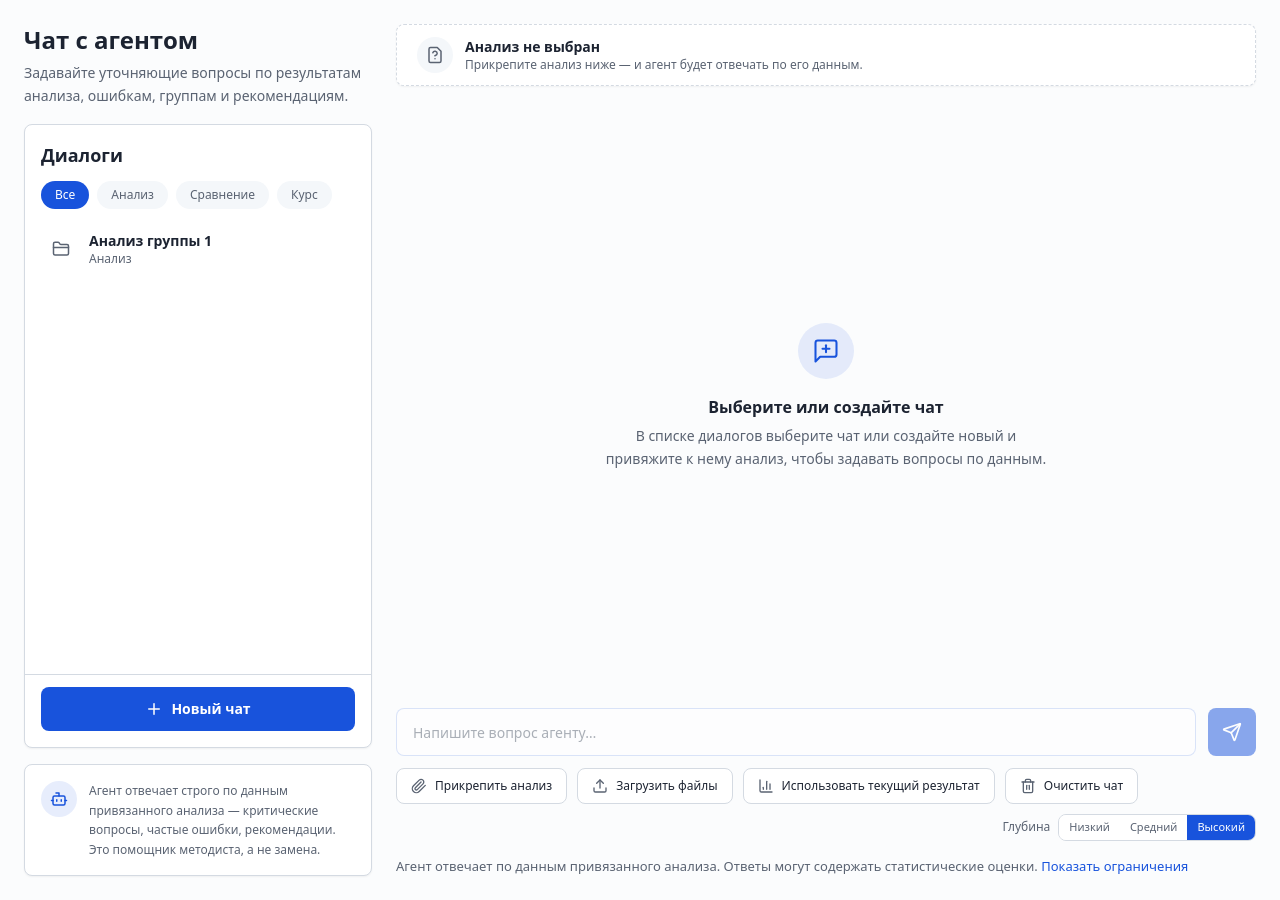
Test: ChatScreen › streams a turn: status → card → tokens → done, rendering card then prose
Click the text "Анализ группы 1" at (151, 240), box [89,230,212,250]
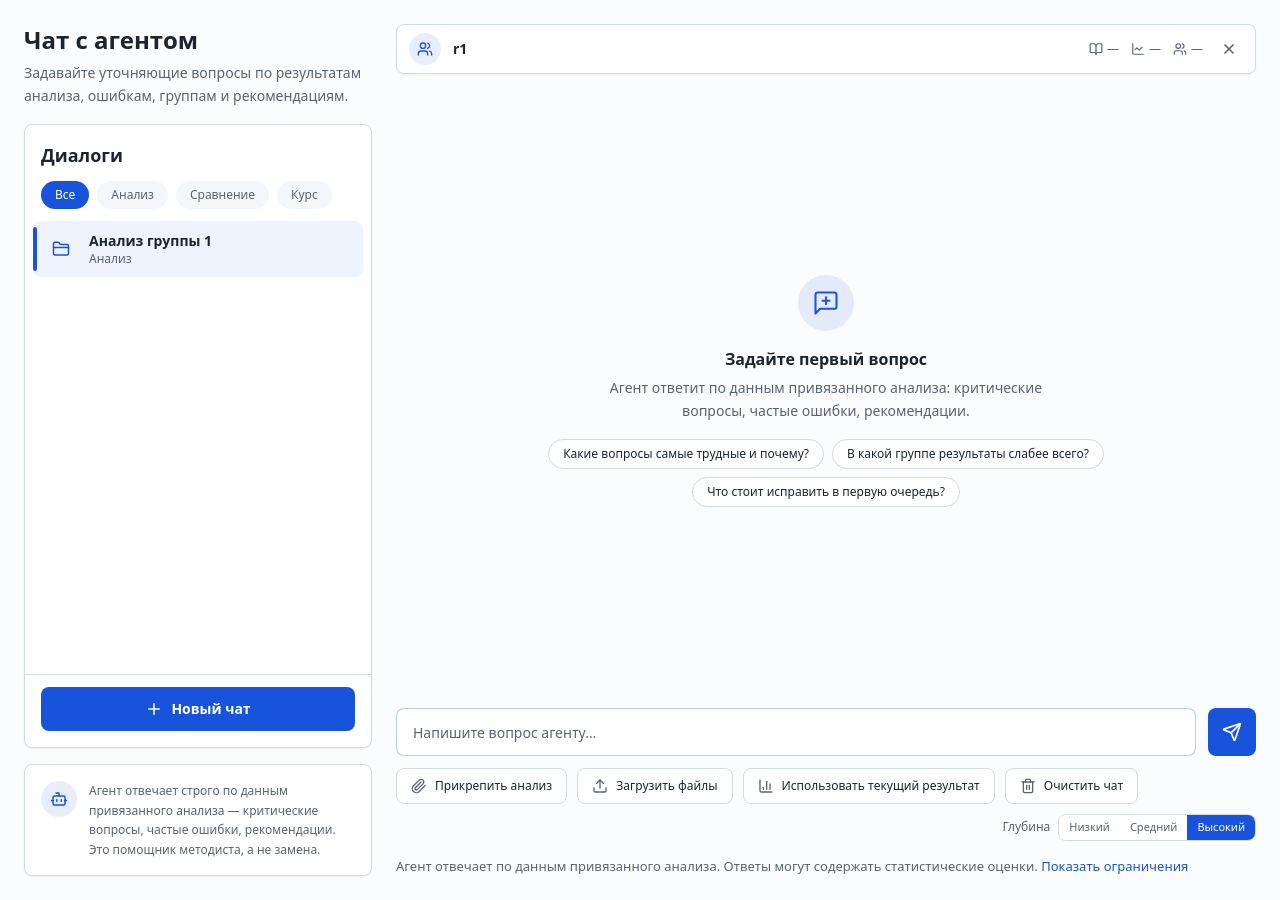
Type "Что самое сложное?" into the field with placeholder "Напишите вопрос агенту…" at (796, 732), box [396,708,1196,756]
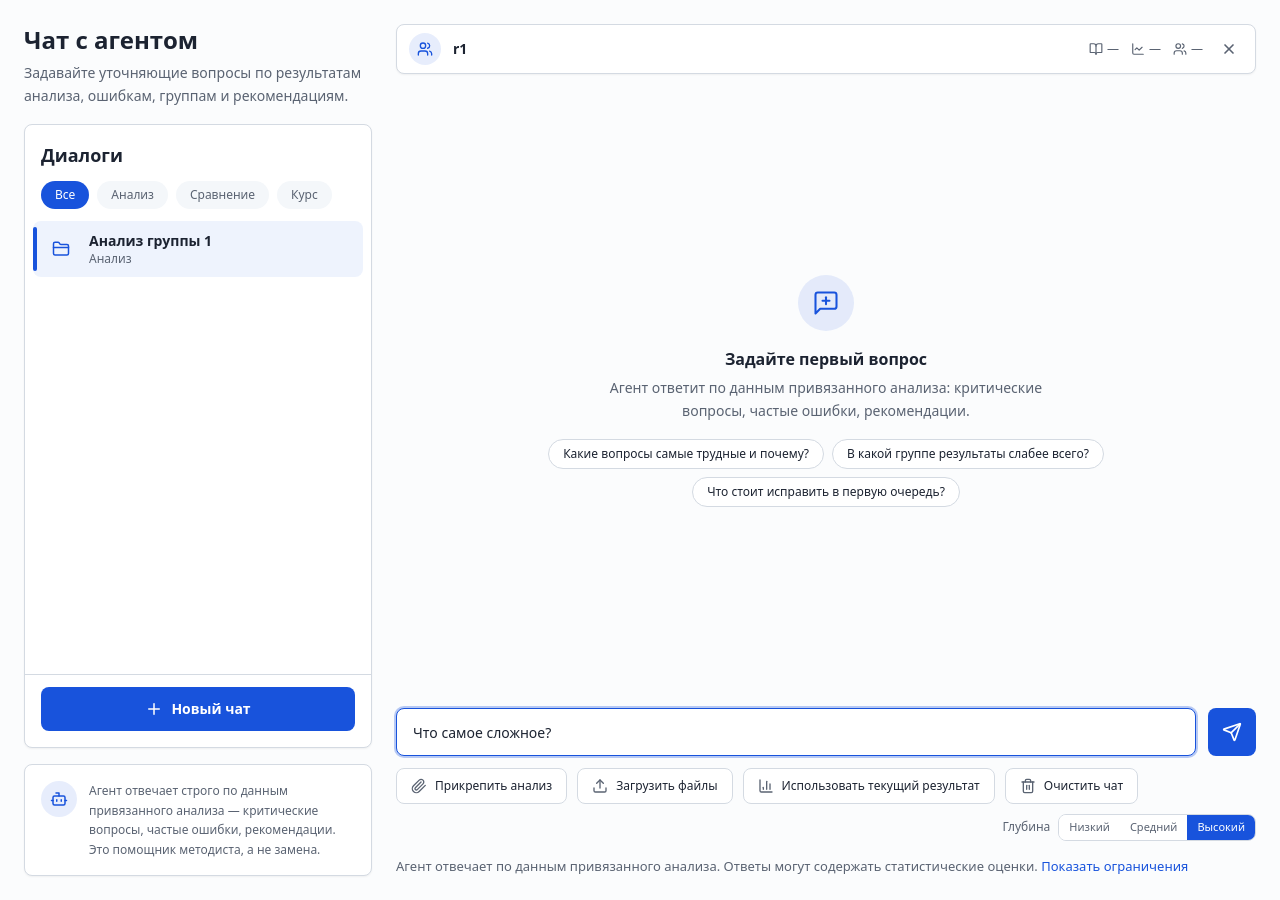
Click the button named "Отправить" at (1232, 732), box [1208,708,1256,756]
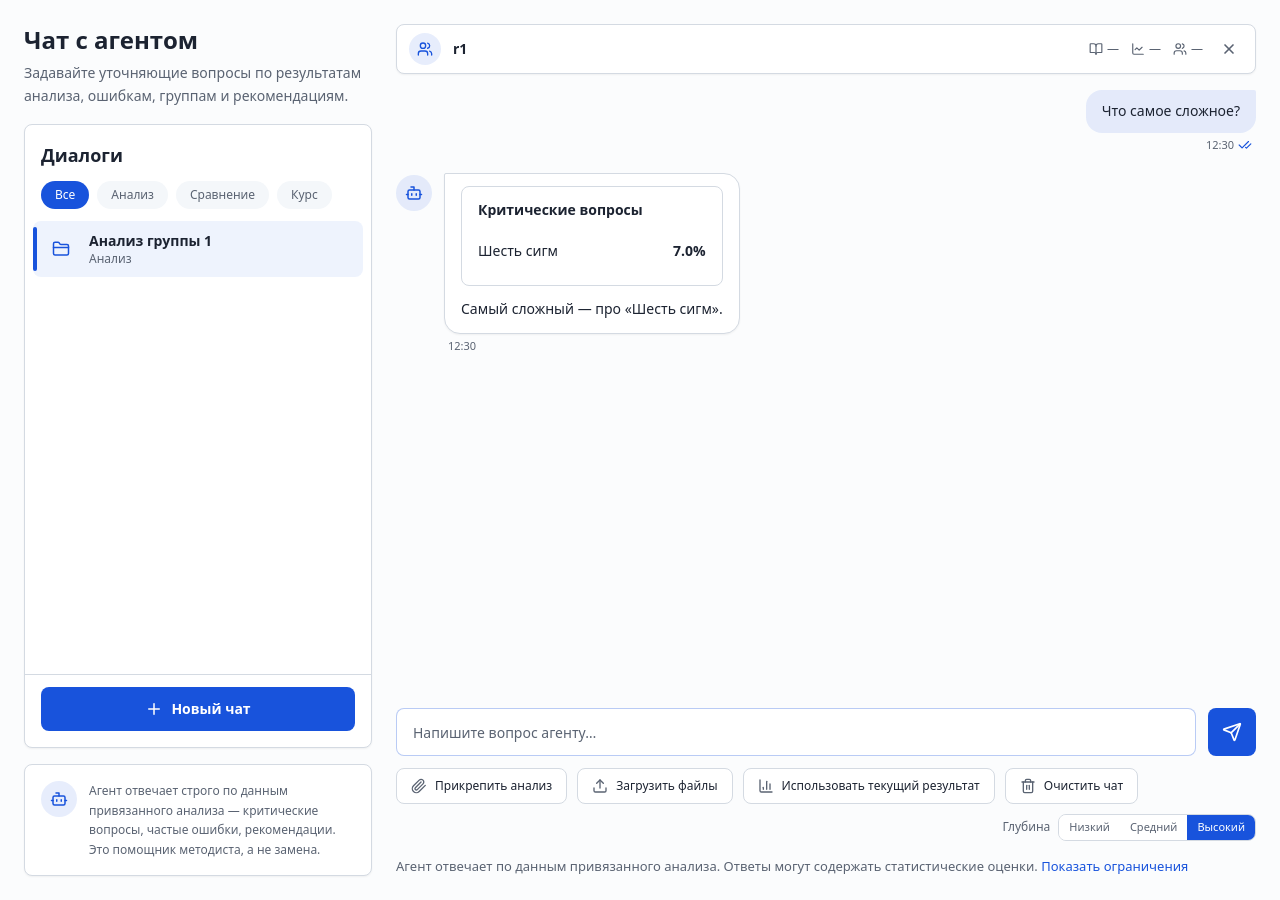
Expected: the text "Критические вопросы" is shown, [478,200,643,219]
Expected: the text "Самый сложный — про «Шесть сигм»." is shown, [461,298,723,321]
